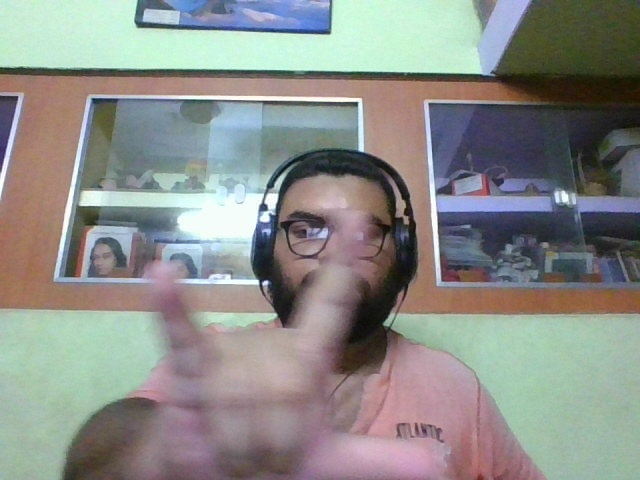hello: (144, 212, 448, 480)
